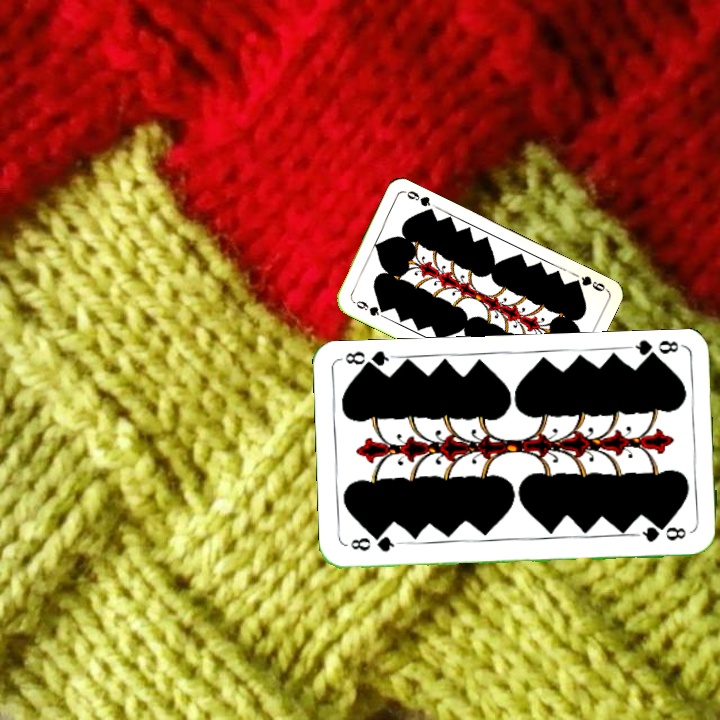G8: (627, 336, 686, 364), (347, 532, 403, 554)
G9: (348, 296, 388, 319), (568, 272, 609, 294)
